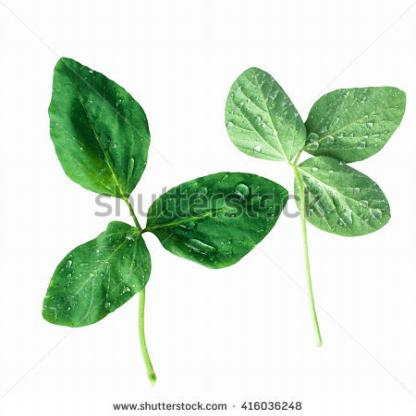Soyabean leaf: (144, 163, 292, 273), (46, 54, 154, 202), (38, 213, 157, 332), (298, 77, 410, 172), (217, 61, 312, 166), (283, 153, 397, 239)
